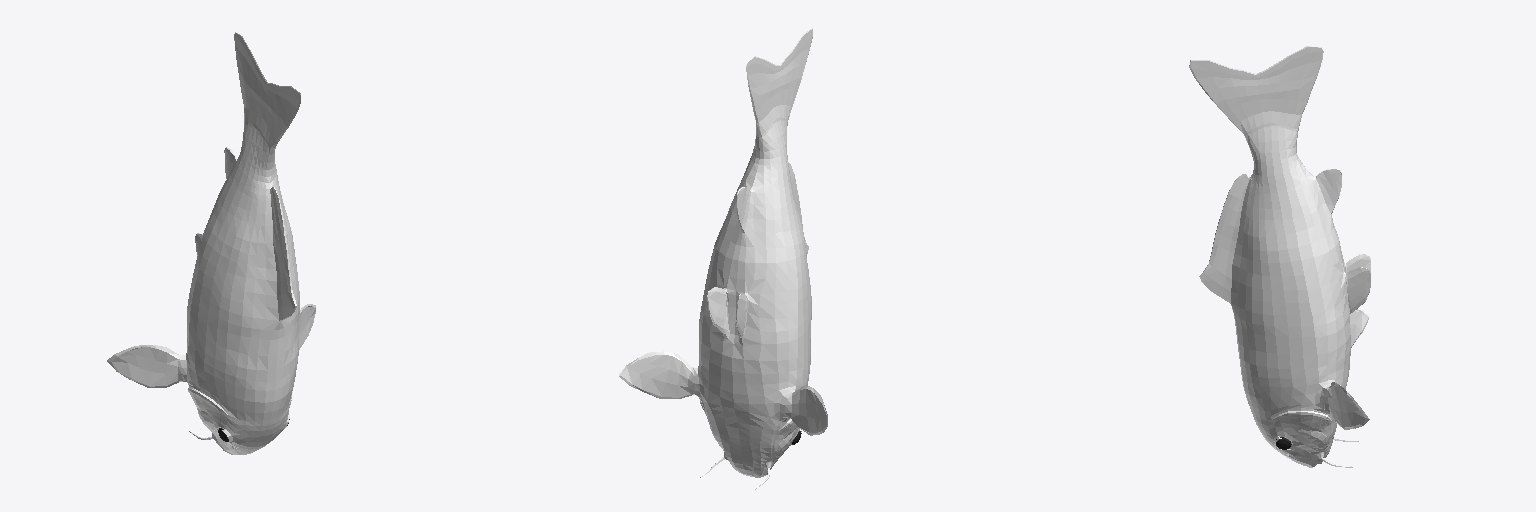
File: Koi_Fish.obj
3 renders of one model, left to right at view 1: azimuth 30°, elevation 25°; view 2: azimuth 150°, elevation 25°; view 3: azimuth 270°, elevation 25°, orthographic.
Parts seen in each view (by area): view 1: koi_pivot; view 2: koi_pivot; view 3: koi_pivot.
Boxes of the visible parts, x1=… form: koi_pivot: x1=107, y1=32, x2=315, y2=454; koi_pivot: x1=619, y1=28, x2=827, y2=489; koi_pivot: x1=1189, y1=46, x2=1370, y2=467.
Bounding box in the file's own units: 17.91 × 34.34 × 13.5.